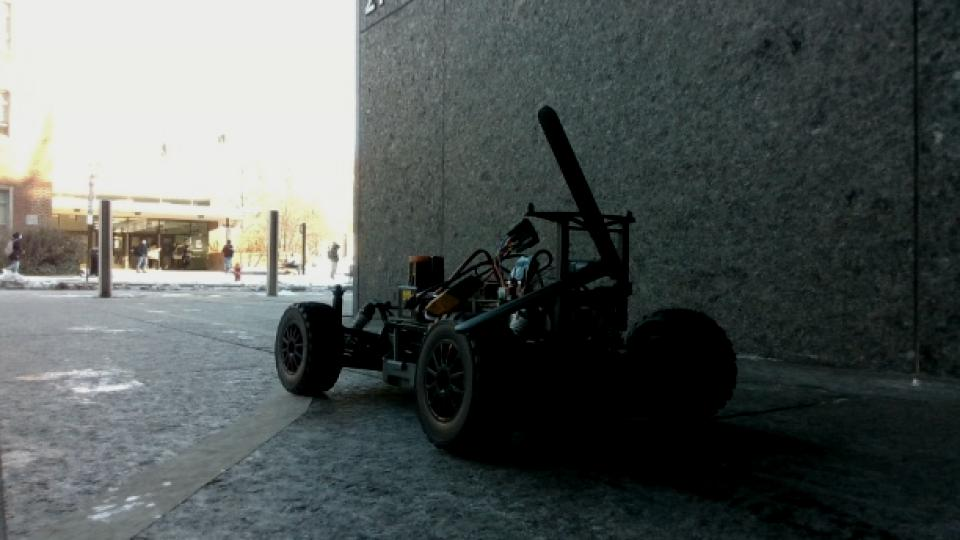car: (270, 102, 740, 457)
